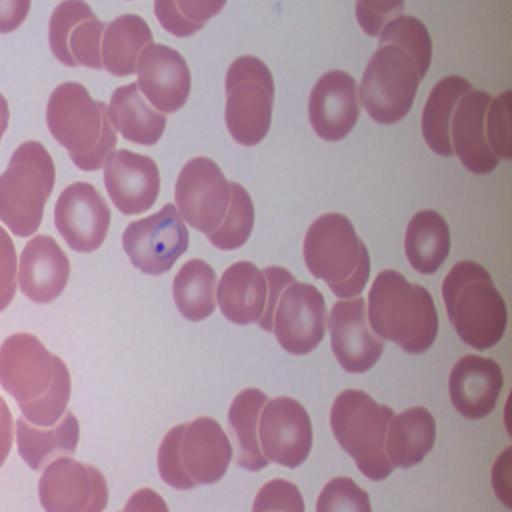Infected: (121, 203, 188, 279)
Uninfected: (363, 46, 419, 126), (449, 91, 499, 176), (422, 77, 476, 155), (174, 158, 230, 232), (54, 179, 110, 251), (327, 297, 381, 371), (17, 357, 70, 431), (307, 69, 361, 141), (136, 43, 189, 116), (0, 329, 52, 402), (44, 83, 99, 152), (259, 397, 311, 468), (378, 17, 432, 85), (72, 96, 121, 170), (182, 415, 233, 486), (108, 84, 165, 147), (106, 150, 161, 215), (302, 213, 356, 279), (18, 236, 71, 303), (331, 390, 383, 458), (16, 413, 80, 468), (448, 353, 502, 418), (227, 389, 273, 465), (200, 181, 252, 248), (441, 260, 491, 329), (453, 284, 507, 347), (389, 285, 439, 351), (371, 267, 416, 336), (274, 286, 324, 348), (227, 53, 273, 119), (0, 168, 44, 236), (102, 15, 152, 74), (219, 260, 264, 325), (157, 425, 204, 487), (173, 261, 219, 324), (404, 211, 449, 274), (226, 84, 272, 145), (389, 406, 435, 465), (42, 456, 90, 512), (322, 236, 367, 295)
